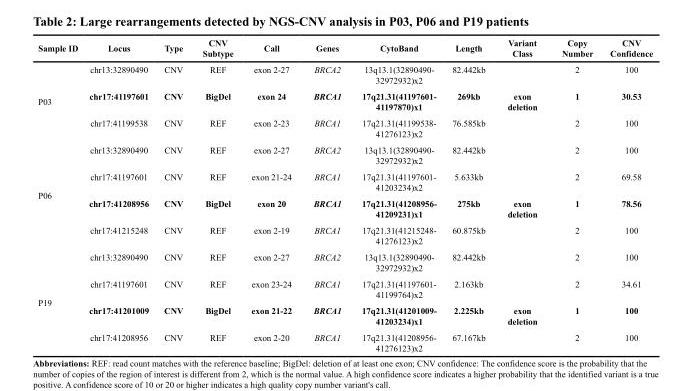table: (37, 37, 652, 352)
table column: (350, 37, 443, 352), (82, 37, 155, 352), (241, 37, 301, 352), (495, 37, 548, 352), (443, 37, 495, 352), (548, 37, 600, 352), (600, 37, 652, 352), (192, 37, 241, 352), (301, 37, 350, 352), (37, 37, 82, 352), (155, 37, 192, 352)
table column header: (37, 37, 652, 60)
table row: (37, 60, 652, 87), (37, 87, 652, 114), (37, 114, 652, 141), (37, 141, 652, 168), (37, 194, 652, 221), (37, 221, 652, 248), (37, 248, 652, 275), (37, 275, 652, 302), (37, 168, 652, 194), (37, 302, 652, 328), (37, 328, 652, 352), (37, 37, 652, 60)
table spanning cell: (37, 141, 82, 248), (37, 248, 82, 352), (37, 60, 82, 141)
